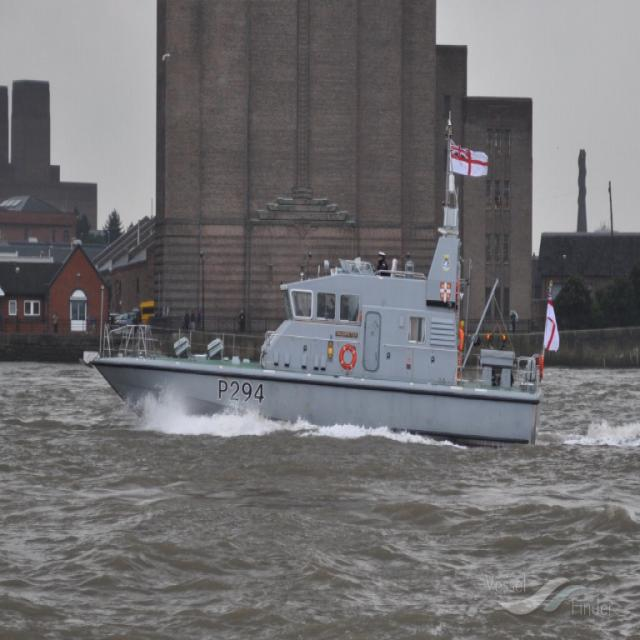OCR: (216, 375, 268, 411)
